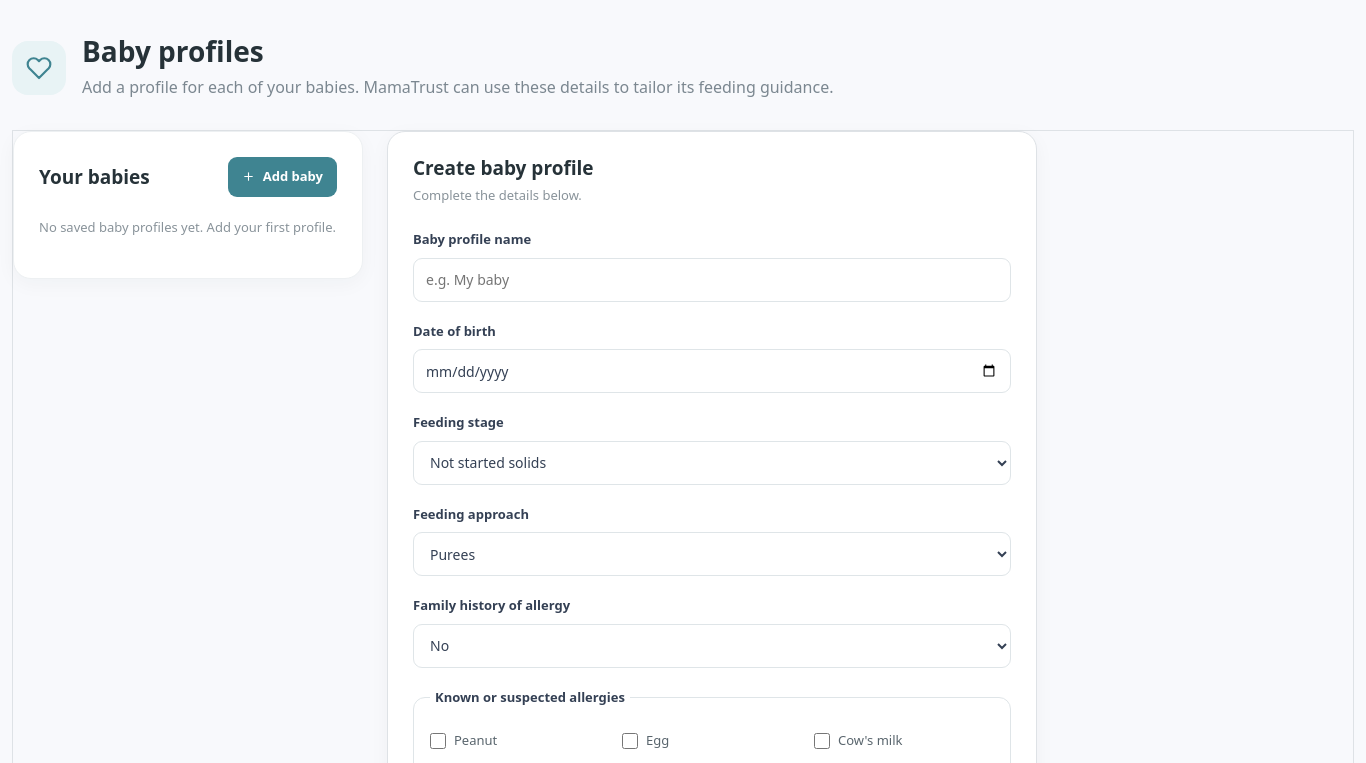
Test case: Profile Page › saves a new baby profile to localStorage
Type "Baby Alex" into the field labelled "Baby profile name".
click(712, 280); type("Baby Alex")  # box [413,258,1011,302]
Type "2026-01-15" into the date field labelled "Date of birth".
click(712, 372); type("2026-01-15")  # box [413,350,1011,394]
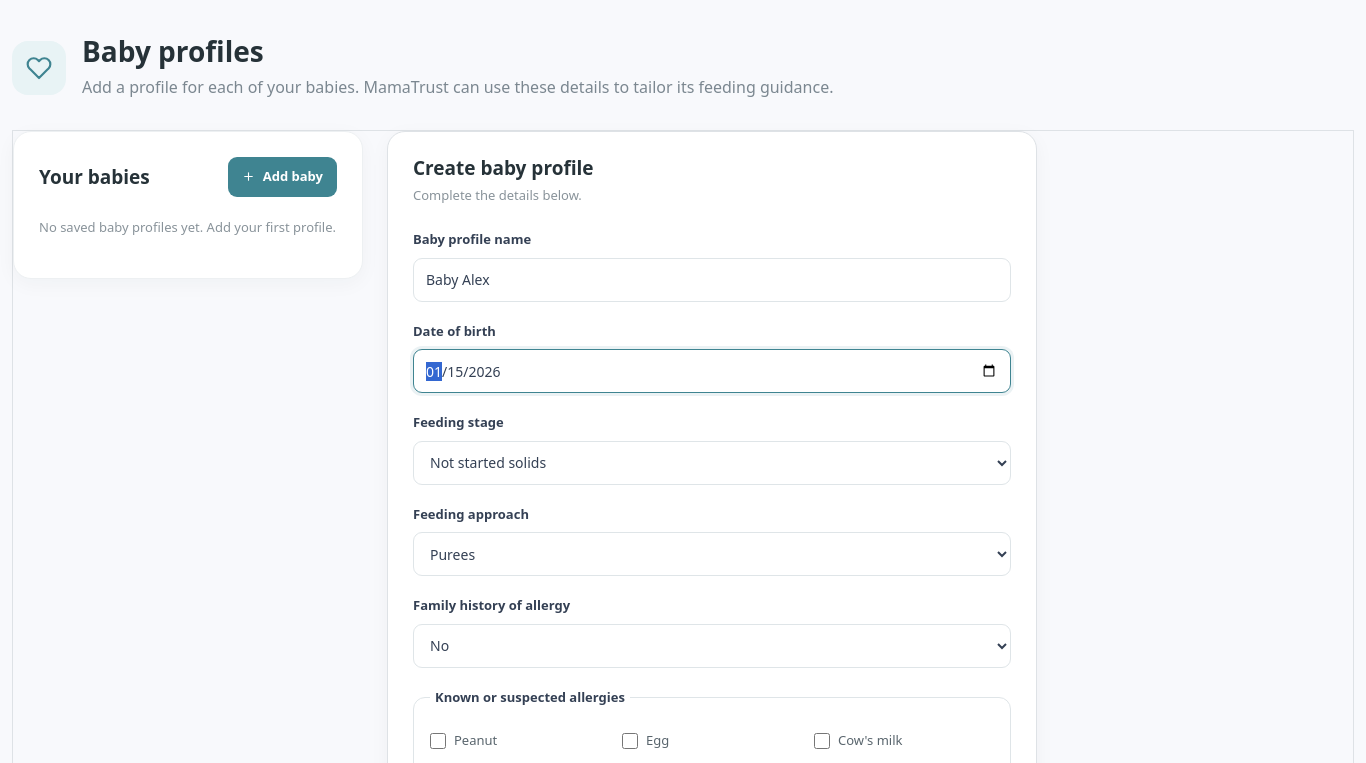
Select "Just started" in the dropdown labelled "Feeding stage" at (712, 463), box [413,441,1011,485]
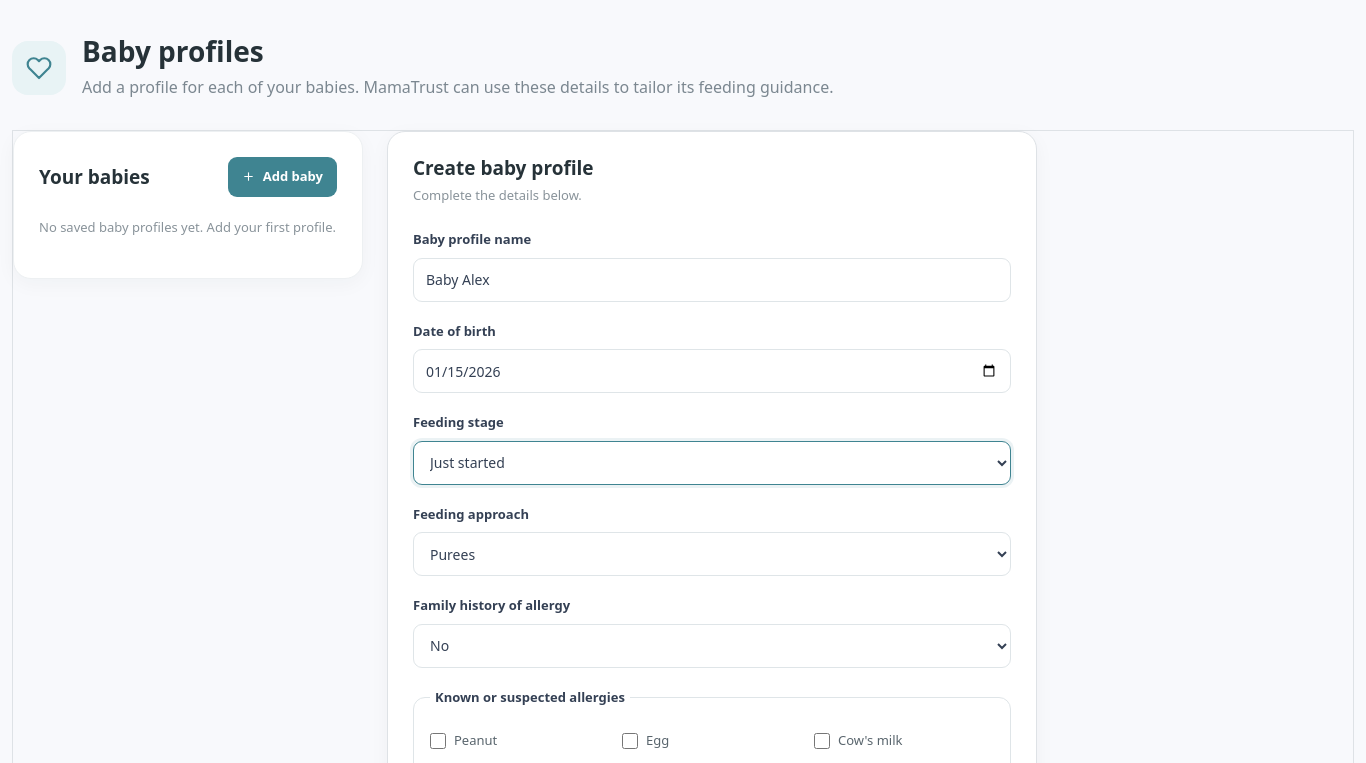
Select "Mixed" in the dropdown labelled "Feeding approach" at (712, 554), box [413,532,1011,576]
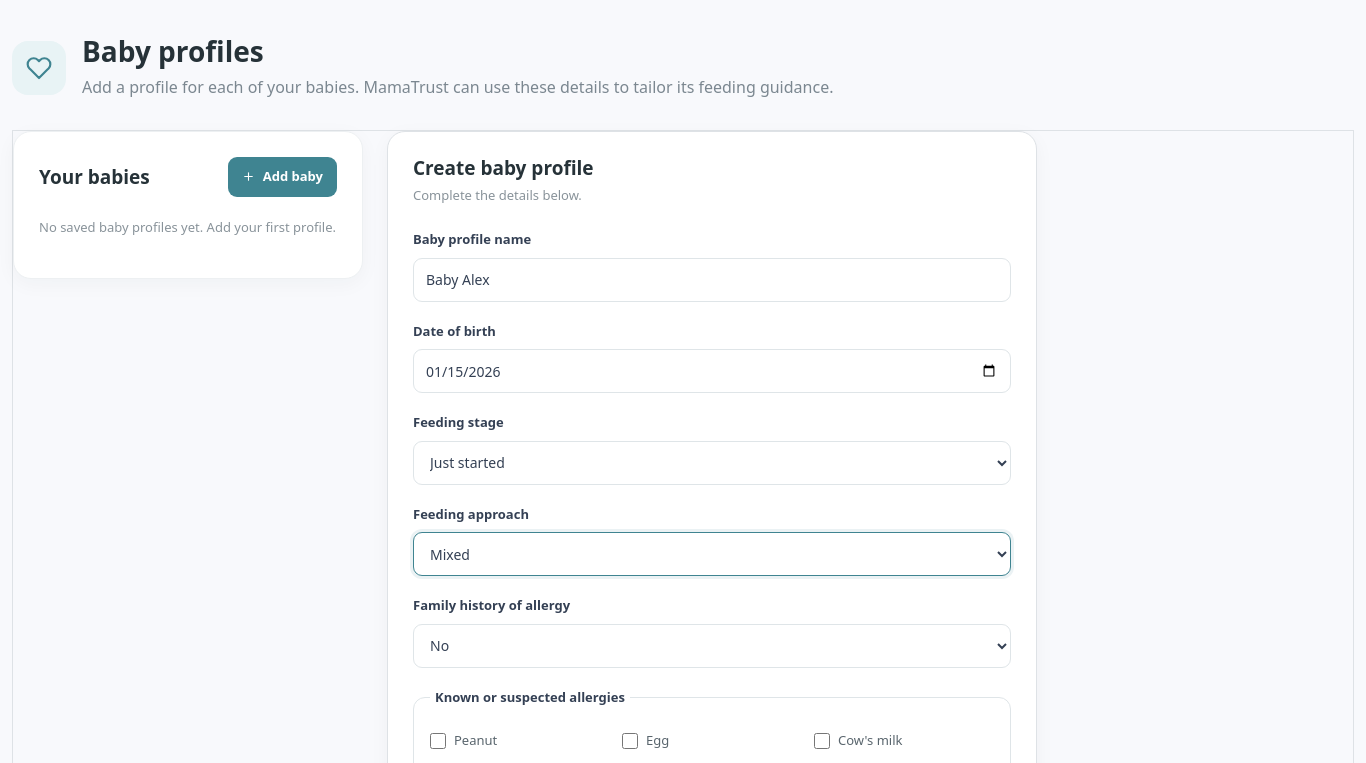
Select "Yes" in the dropdown labelled "Family history of allergy" at (712, 646), box [413,624,1011,668]
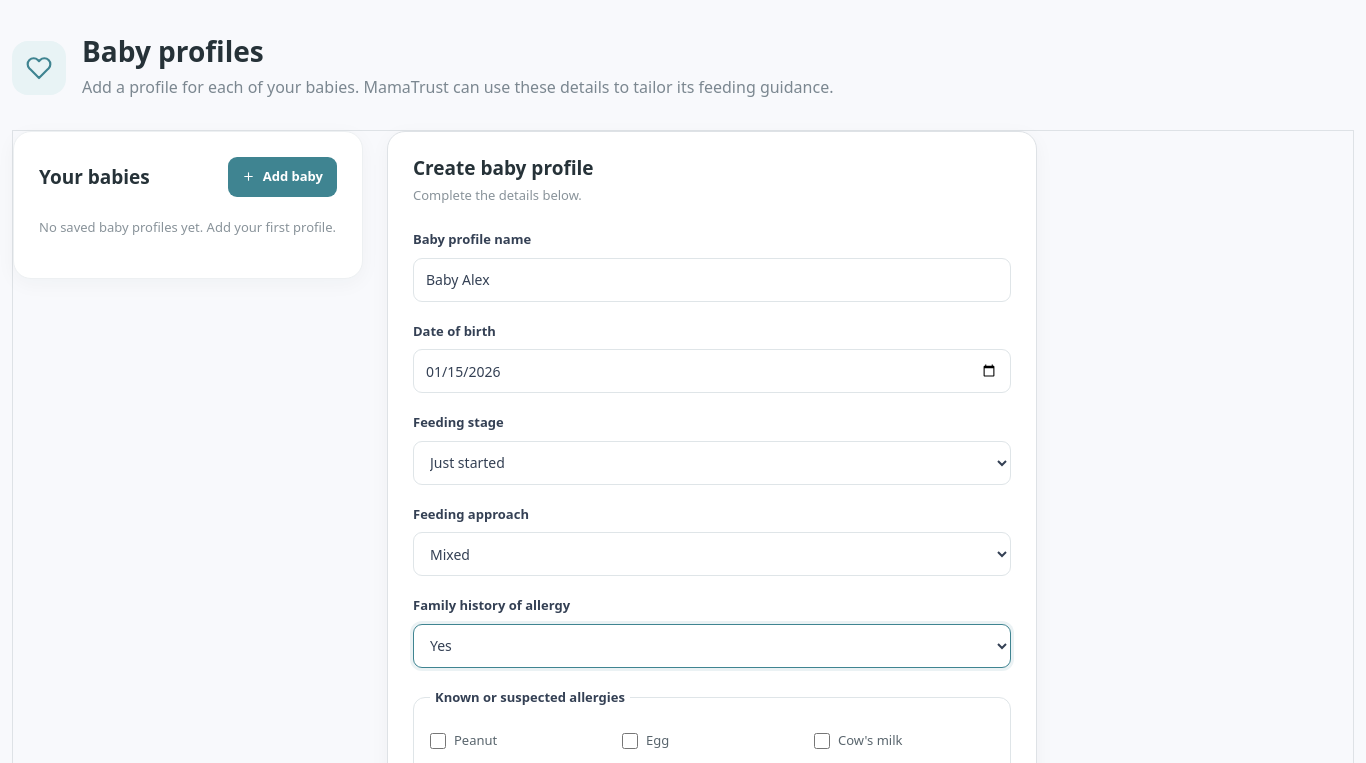
Click the checkbox labelled "Peanut".
click(438, 741)  # box [430,733,446,749]
(page scrolled)
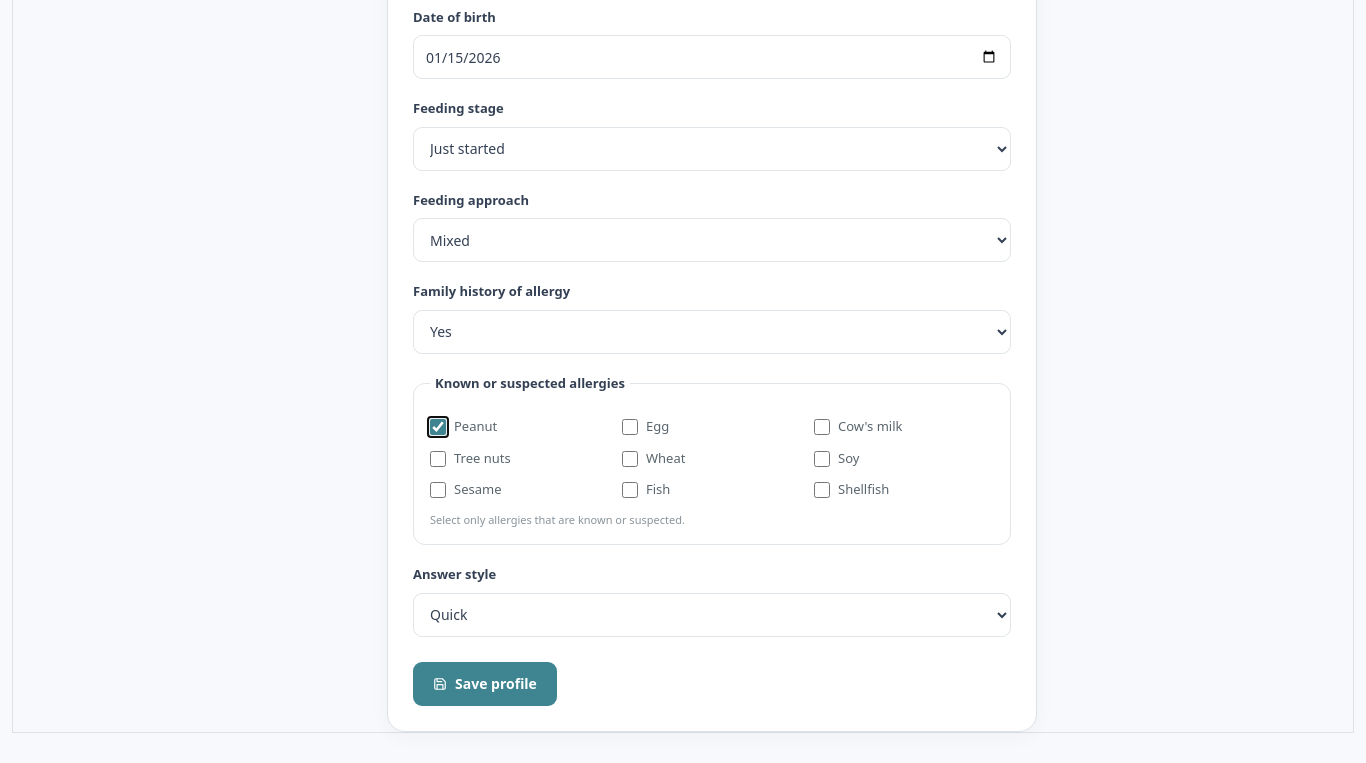
Select "Detailed" in the dropdown labelled "Answer style" at (712, 615), box [413,593,1011,637]
Click the button "Save profile".
click(485, 684)  # box [413,662,557,706]
(page scrolled)
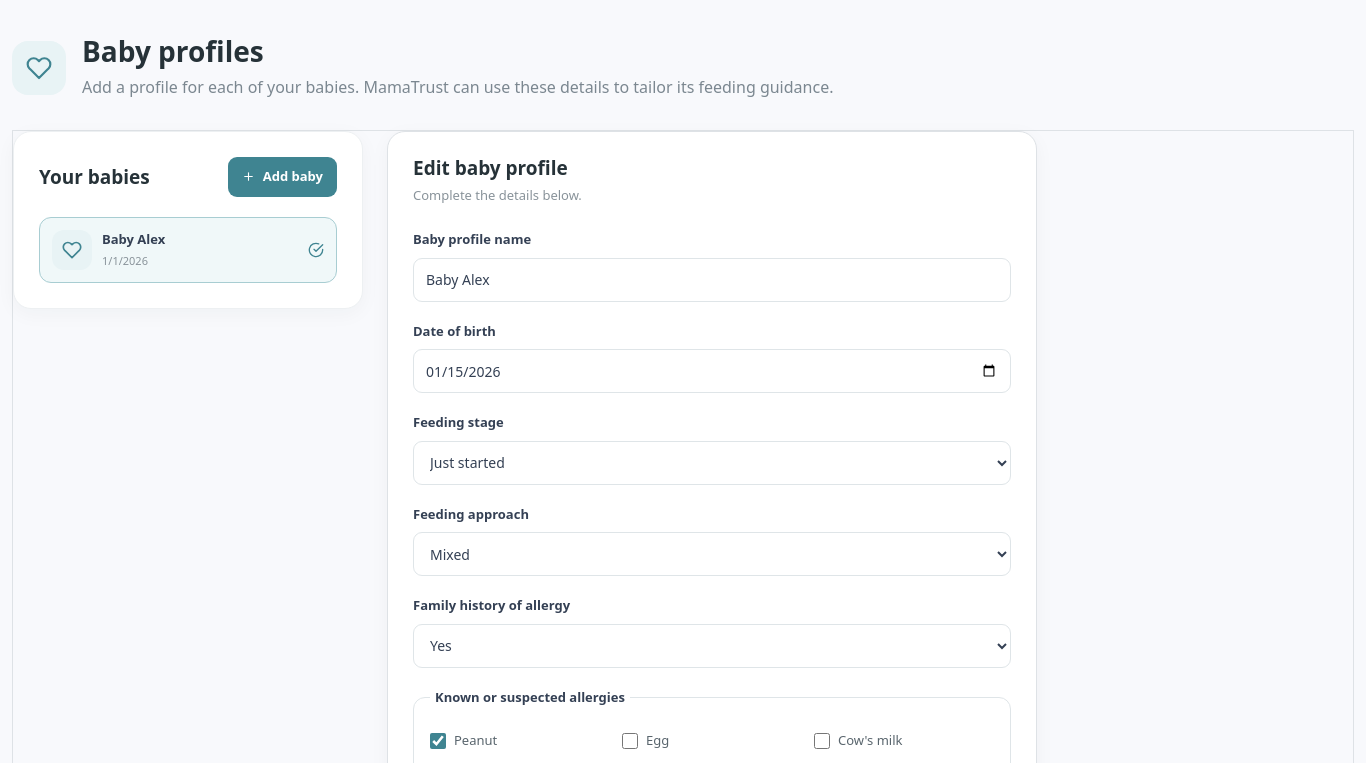
Result: the heading "Edit baby profile" is shown at [413,155,568,181]
